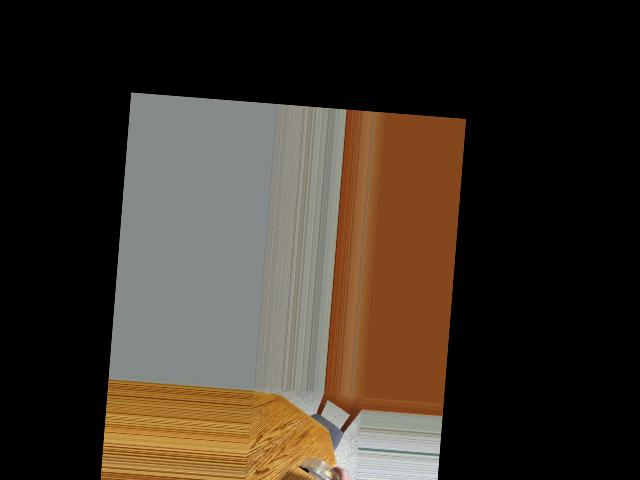cheese: (298, 456, 343, 480)
